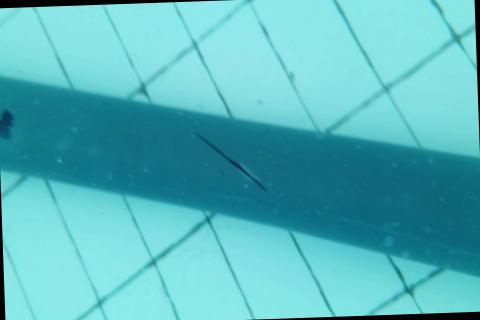kebocoran: (0, 106, 15, 143)
keretakan: (193, 129, 267, 196)
